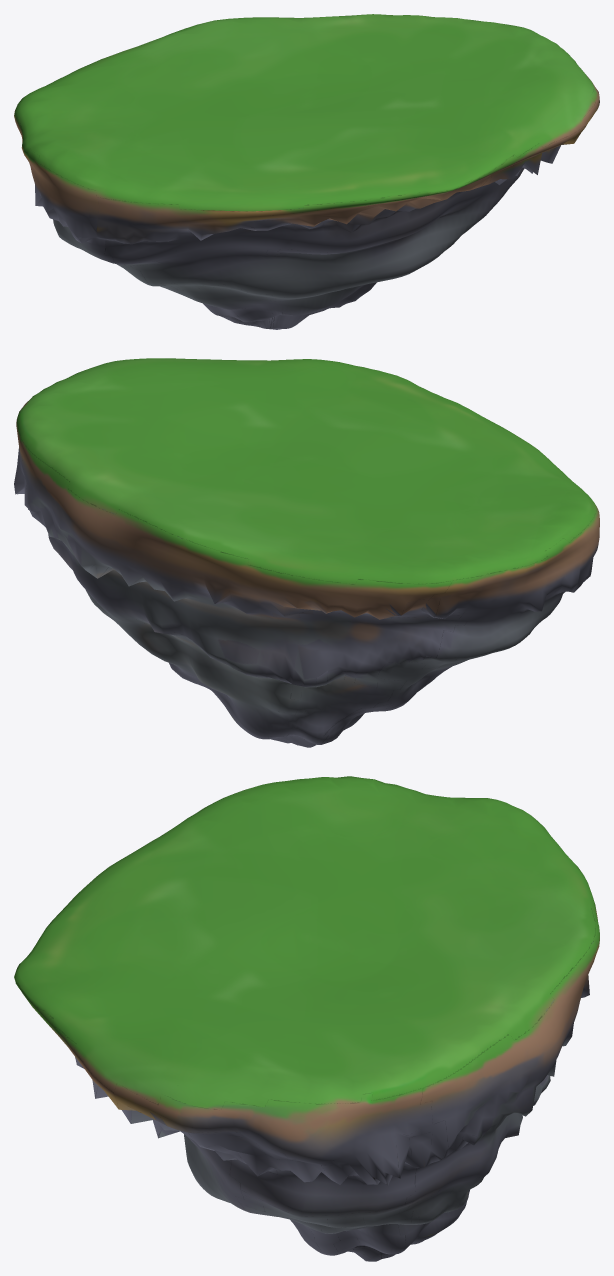
Rendered from island.fbx.
The picture shows the model from 3 angles, top to bottom: view 1: azimuth 30°, elevation 25°; view 2: azimuth 150°, elevation 25°; view 3: azimuth 270°, elevation 25°; orthographic projection. The views are drawn at different scales.
Parts seen in each view (by area): view 1: island; view 2: island; view 3: island.
Boxes of the visible parts, x1,y1,x2,y2 form: island: (14, 14, 599, 329); island: (14, 358, 599, 747); island: (14, 776, 599, 1261).
Size of the model in its own units: 13844 by 6351 by 10209.
